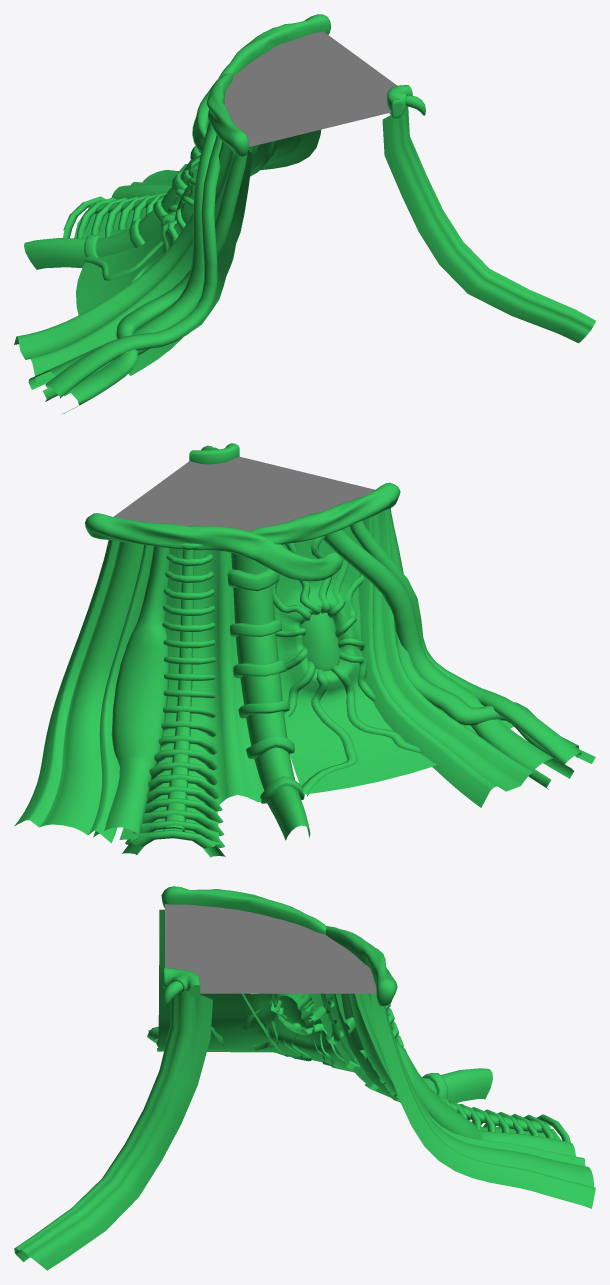
File: Track_alien_03_L.fbx
3 views of the same model, one above another, from view 1: azimuth 30°, elevation 25°; view 2: azimuth 150°, elevation 25°; view 3: azimuth 270°, elevation 25° (orthographic). The views are drawn at different scales.
Parts seen in each view (by area): view 1: Side_Rock_002, Road_002; view 2: Side_Rock_002, Road_002; view 3: Side_Rock_002, Road_002.
Boxes of the visible parts, box(x1,y1,x2,y2) form: Side_Rock_002: box(14, 14, 595, 413); Road_002: box(224, 31, 396, 146); Side_Rock_002: box(14, 443, 595, 857); Road_002: box(113, 456, 375, 531); Side_Rock_002: box(14, 886, 595, 1270); Road_002: box(165, 904, 376, 993).
Size of what is drawn, in the model's own units: 6950 by 7002 by 3292.
